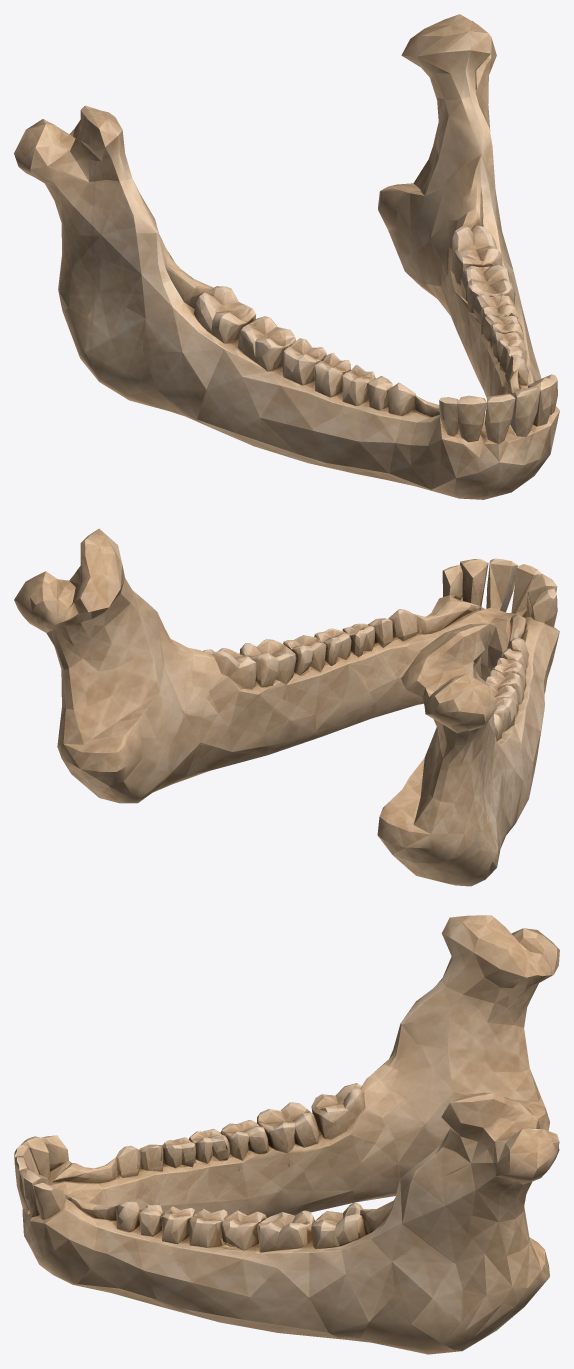
The model's file is jawbone.glb.
3 views of the same model, one above another, from view 1: azimuth 30°, elevation 25°; view 2: azimuth 150°, elevation 25°; view 3: azimuth 270°, elevation 25° (orthographic). The views are drawn at different scales.
Bounding box in the file's own units: 1.84 × 1.03 × 1.9.
Materials: 1 (1 with a texture image).
